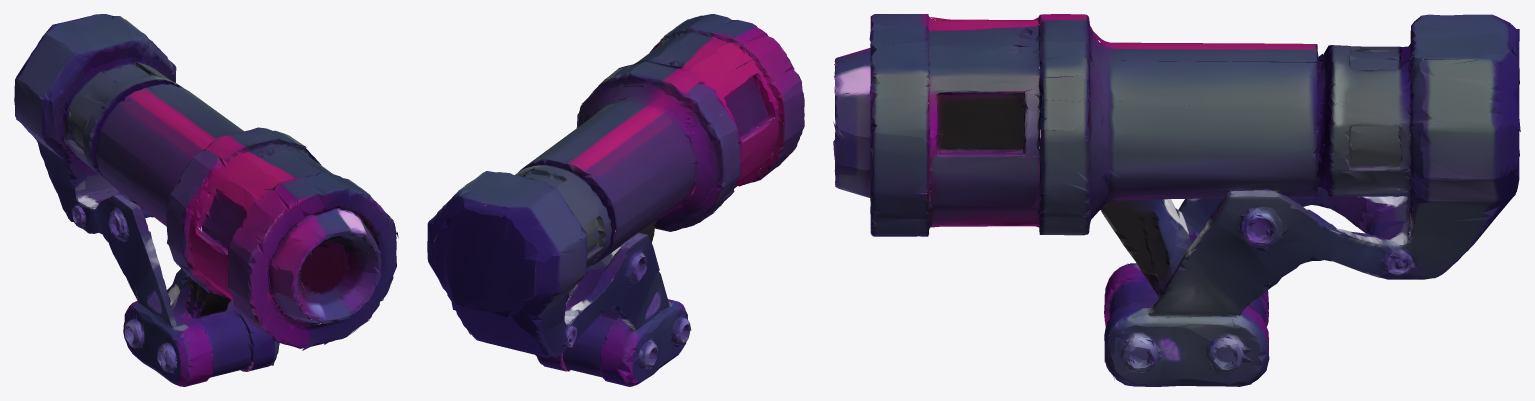
Rendered from timeattack_rocket.glb.
The picture shows the model from 3 angles, left to right: view 1: azimuth 30°, elevation 25°; view 2: azimuth 150°, elevation 25°; view 3: azimuth 270°, elevation 25°; orthographic projection. The views are drawn at different scales.
Visible parts, largest first — view 1: Rocket_Time_Attack_x; view 2: Rocket_Time_Attack_x; view 3: Rocket_Time_Attack_x.
Boxes of the visible parts, bbox=[...] form: Rocket_Time_Attack_x: bbox=[14, 14, 398, 386]; Rocket_Time_Attack_x: bbox=[427, 14, 804, 386]; Rocket_Time_Attack_x: bbox=[833, 14, 1520, 386].
Bounding box in the file's own units: 0.1952 × 0.3232 × 0.6028.
Materials: 1 (1 with a texture image).
